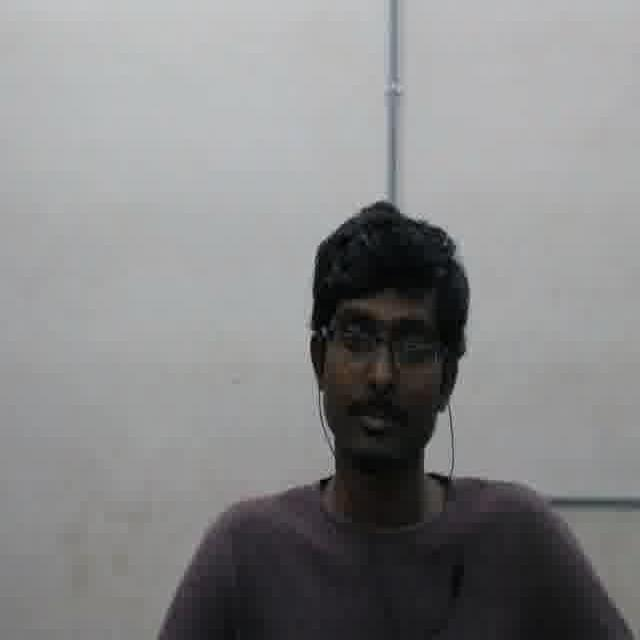Engaged: (323, 273, 440, 464)
